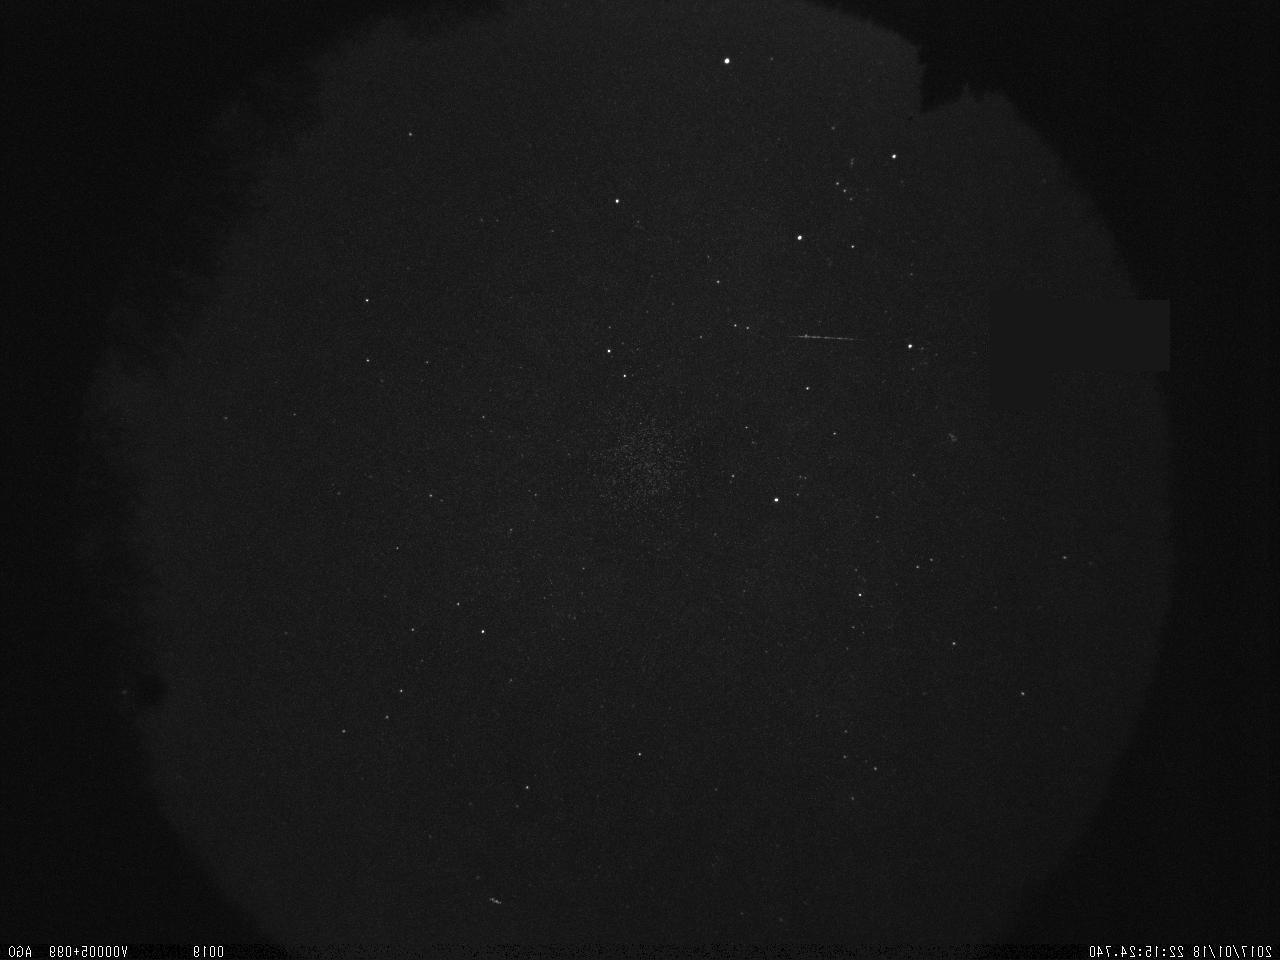meteor: (781, 327, 867, 352)
